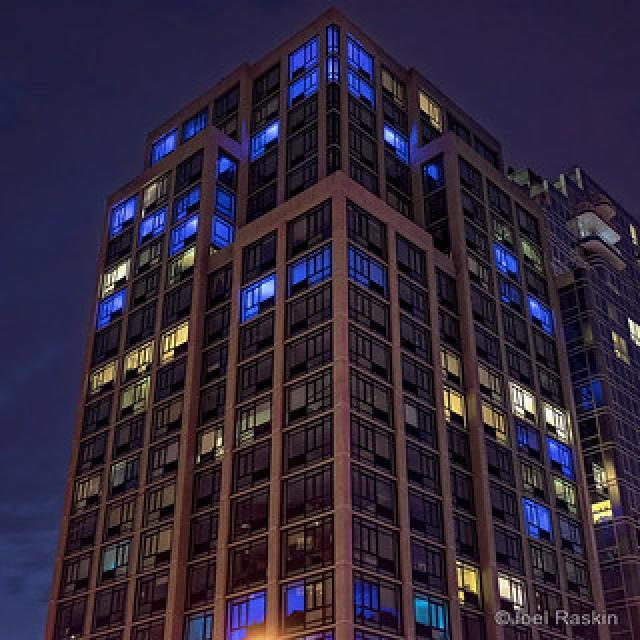building: (37, 6, 639, 640)
